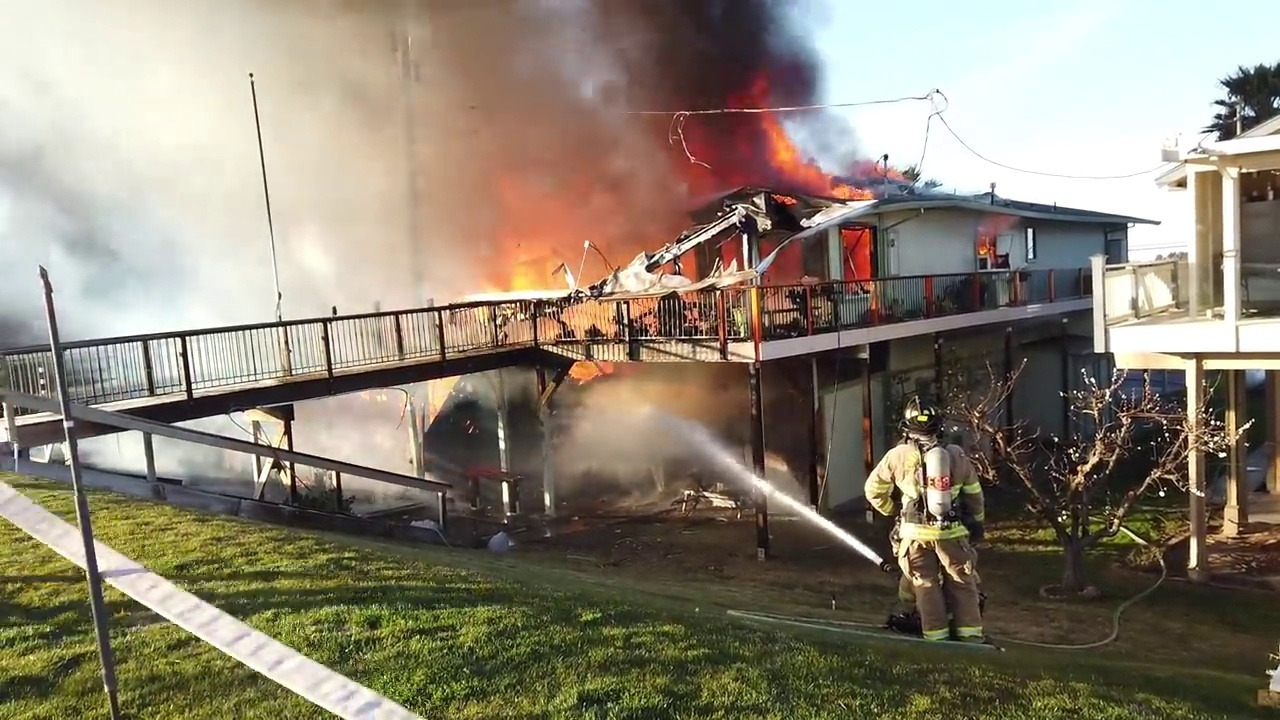fire: (487, 236, 696, 365), (840, 228, 872, 281), (828, 180, 870, 200), (868, 159, 904, 182), (573, 362, 614, 380), (771, 187, 799, 206), (978, 234, 992, 255), (465, 418, 476, 433)
smoke: (1, 1, 493, 324), (484, 1, 863, 211), (555, 386, 749, 513), (297, 403, 409, 468), (156, 434, 254, 498), (342, 476, 437, 526), (77, 441, 144, 471)
